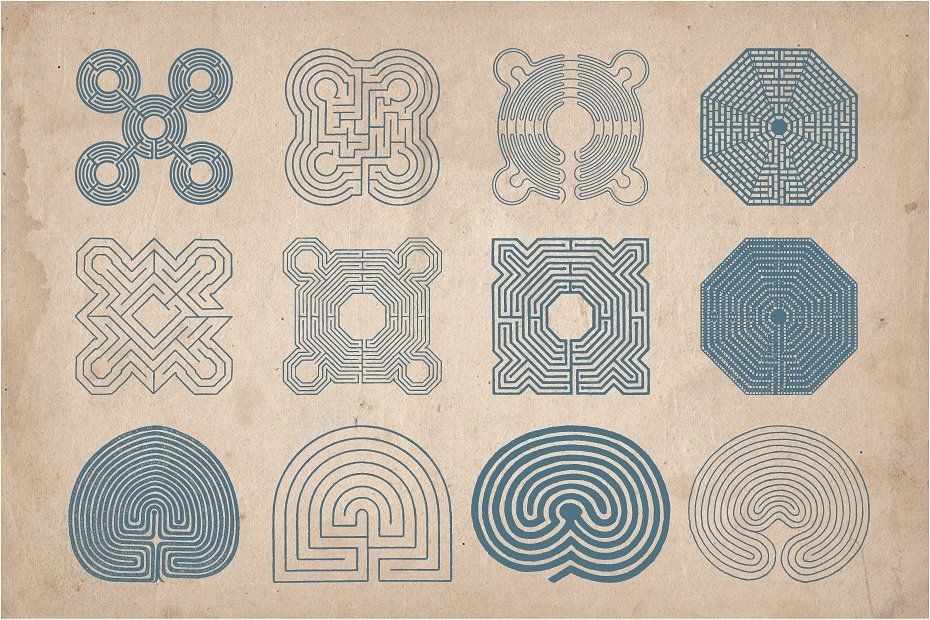maze: (471, 426, 671, 584), (271, 424, 453, 583), (66, 425, 240, 583), (695, 425, 869, 582), (702, 236, 861, 398), (75, 236, 234, 397), (282, 237, 442, 396), (701, 48, 859, 207), (283, 47, 440, 206), (492, 238, 650, 394), (77, 47, 232, 206), (494, 45, 648, 205)
